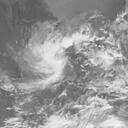cyclone: (34, 34, 93, 93)
